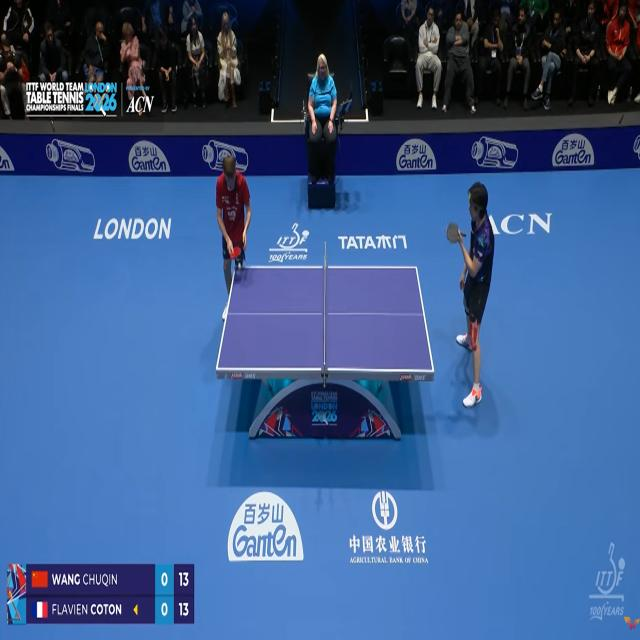TT Net: (322, 238, 327, 372)
TT Racket: (445, 218, 461, 245), (228, 242, 243, 263)
TT Table: (215, 266, 434, 372)
